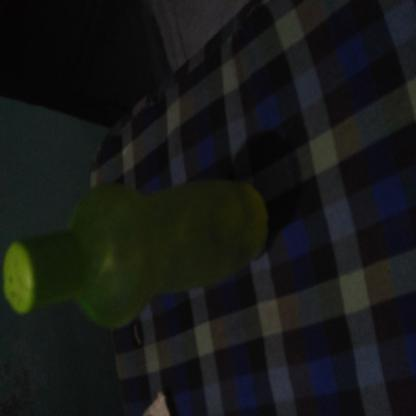bottle: (61, 6, 181, 361)
